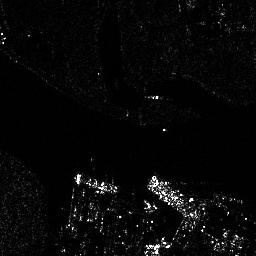ship: (72, 171, 118, 194)
